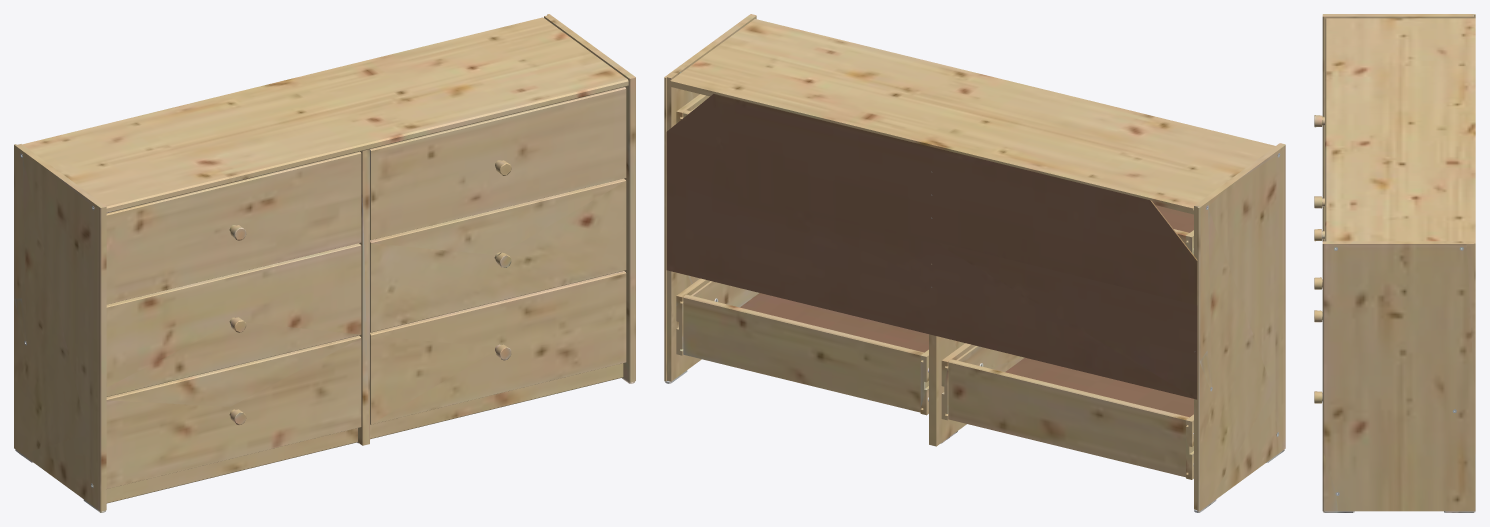
3 views of the same model, side by side, from view 1: azimuth 30°, elevation 25°; view 2: azimuth 150°, elevation 25°; view 3: azimuth 270°, elevation 25° (orthographic). The views are drawn at different scales.
Parts seen in each view (by area): view 1: ASY_ART_00582164_S01_NV01; view 2: ASY_ART_00582164_S01_NV01; view 3: ASY_ART_00582164_S01_NV01.
Part boxes in pixels (x1,y1,x2,y2): ASY_ART_00582164_S01_NV01: [14, 14, 635, 512]; ASY_ART_00582164_S01_NV01: [664, 14, 1285, 512]; ASY_ART_00582164_S01_NV01: [1314, 14, 1475, 512].
Bounding box in the file's own units: 1.25 × 0.6799 × 0.3698.
Materials: 1 (1 with a texture image).
